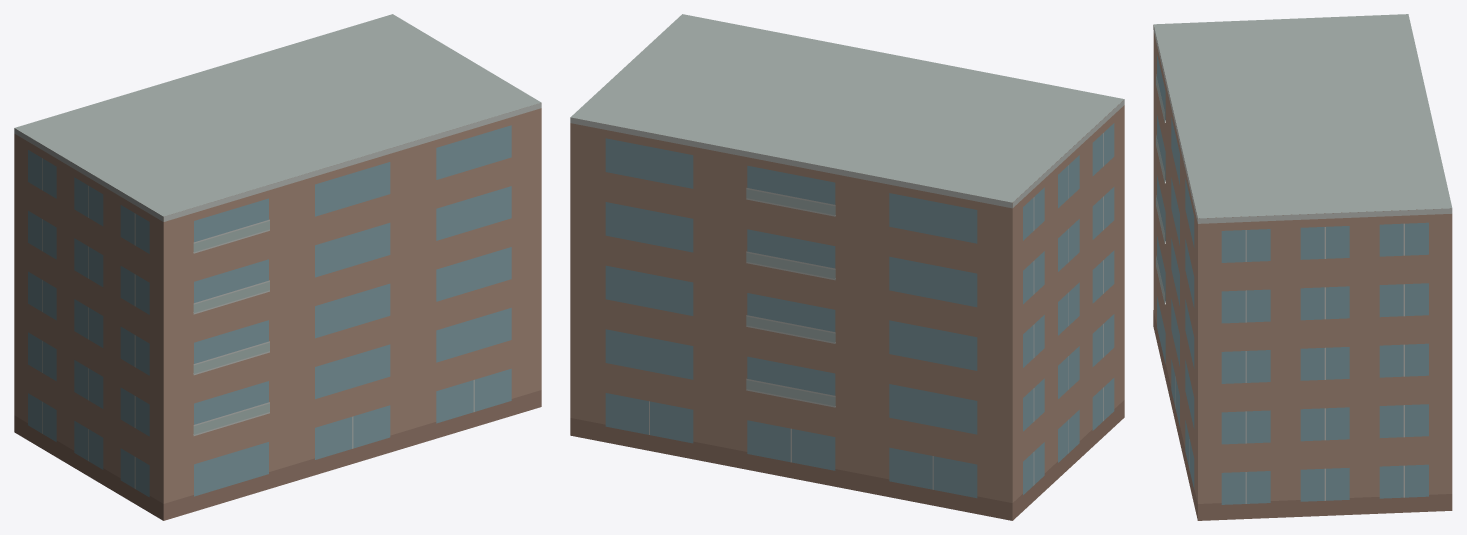
The model's file is survey-upis-32633516.glb.
3 renders of one model, left to right at view 1: azimuth 30°, elevation 25°; view 2: azimuth 150°, elevation 25°; view 3: azimuth 270°, elevation 25°, orthographic. The views are drawn at different scales.
Visible parts, largest first — view 1: survey-upis-32633516.tmp; view 2: survey-upis-32633516.tmp; view 3: survey-upis-32633516.tmp.
Part boxes in pixels (left/top/right/bottom): survey-upis-32633516.tmp: left=14, top=14, right=541, bottom=520; survey-upis-32633516.tmp: left=570, top=14, right=1124, bottom=520; survey-upis-32633516.tmp: left=1153, top=14, right=1452, bottom=520.
Size of the model in its own units: 19.66 by 13.55 by 12.15.
